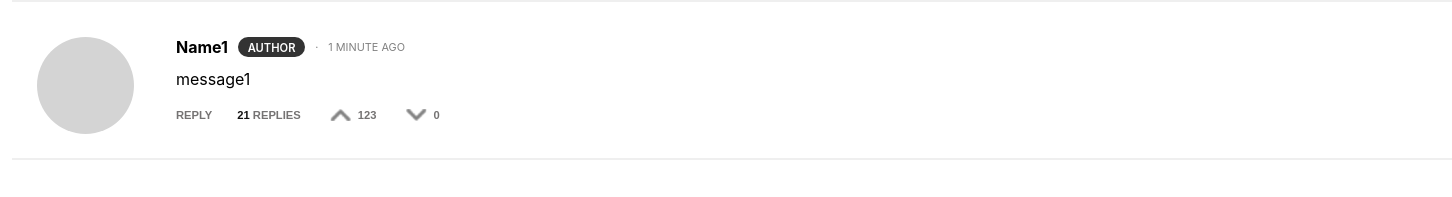
Test: <Comment /> tests › renders clickable Reply button
This screenshot has width=1452, height=197.
Click the button "Reply". click: [199, 115]
box: [176, 98, 222, 132]
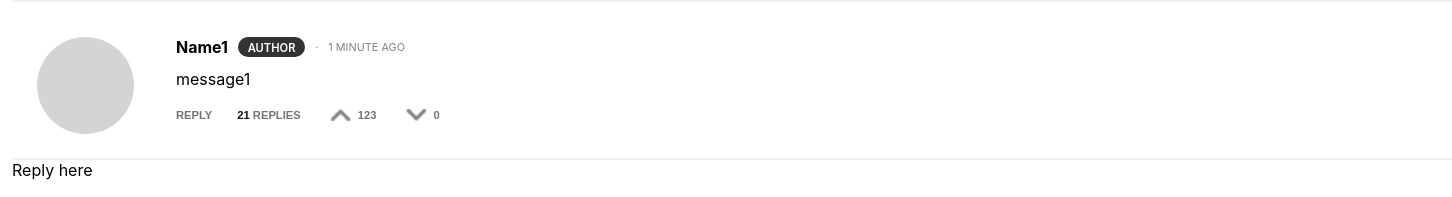
Check: the number of elements with class "comment__reply" is 1, box [12, 160, 92, 180]
